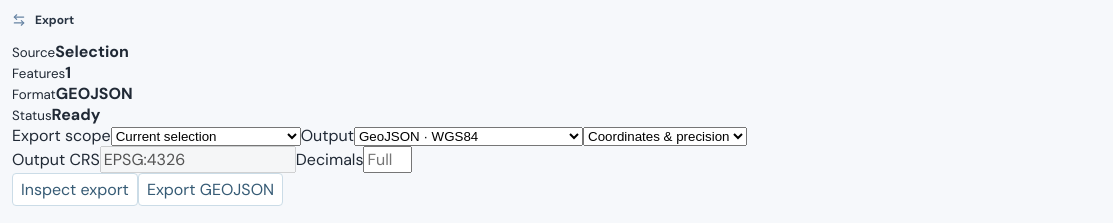
reports a rejected background submission even after its input scope changes
Select "Active project · all records" in the dropdown labelled "Export scope": (206, 136) [111, 127, 301, 146]
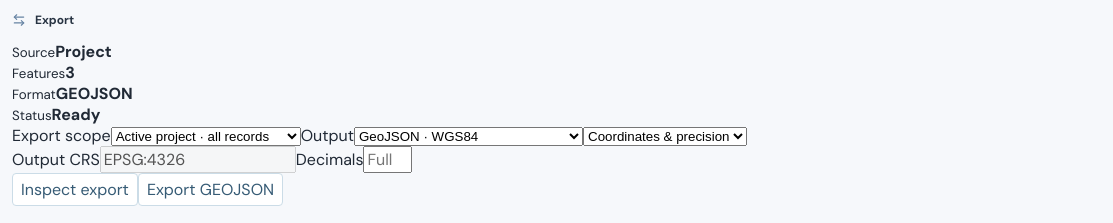
Select "Delivery" in the dropdown named "Export setup": (665, 136) [583, 127, 747, 146]
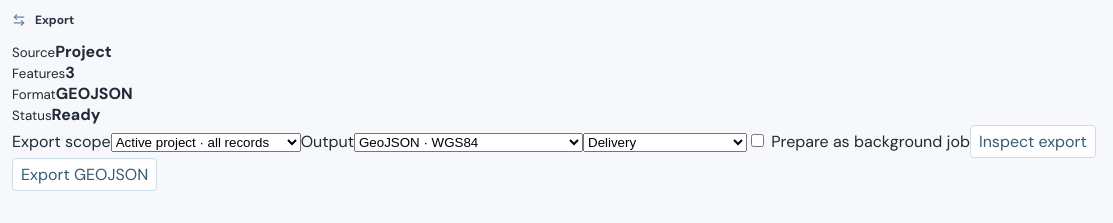
Click the checkbox named "Background dataset export": (758, 140) [751, 134, 764, 147]
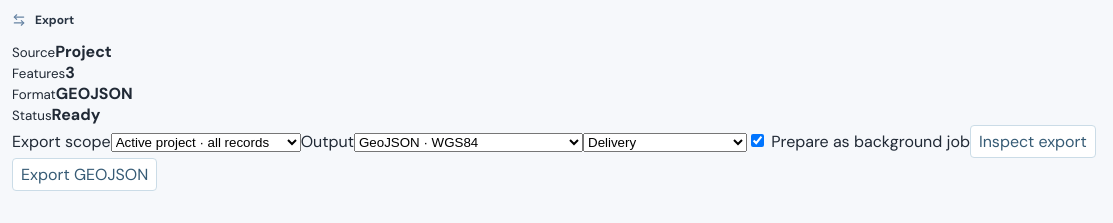
Click the button "Export GEOJSON": (85, 174) [12, 158, 157, 191]
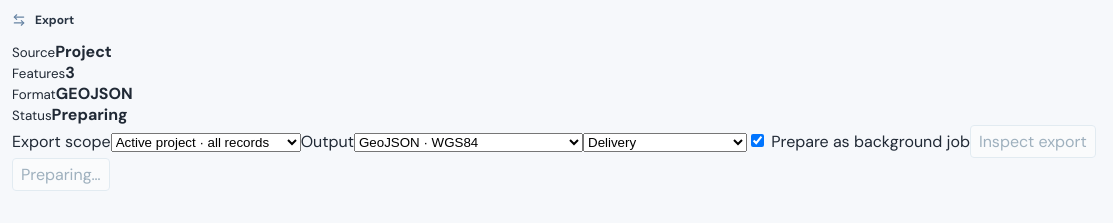
Select "All local drawings" in the dropdown labelled "Export scope": (206, 142) [111, 133, 301, 152]
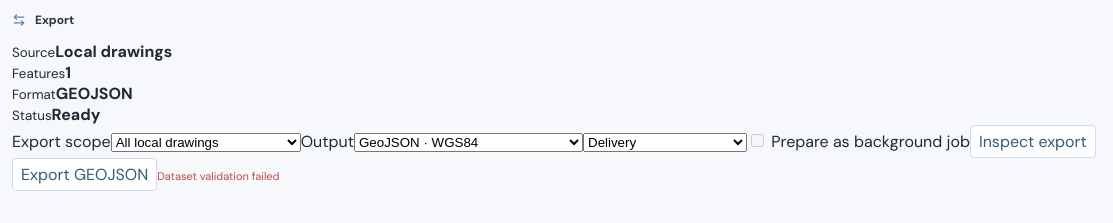
Check: the message reads "Dataset validation failed", box [157, 169, 280, 183]
Check: the button "Export GEOJSON" is enabled, box [12, 158, 157, 191]
